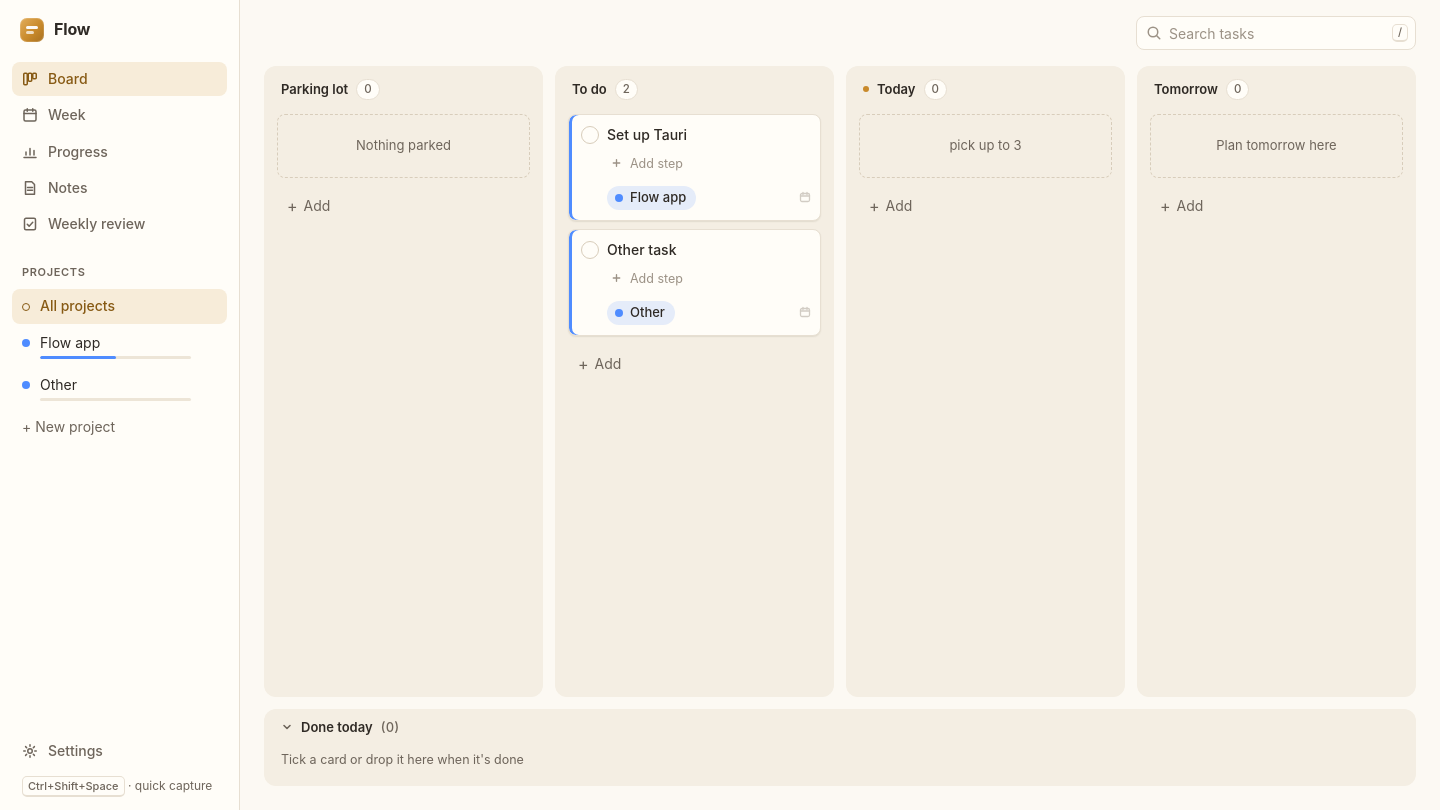
Test: Project header › blur without typing keeps an outside body change made while focused
Expected: the button "Set up Tauri" is shown, [607,125,810,144]
Click the button "Flow app" at coordinates (120, 346), box [12,326,227,366]
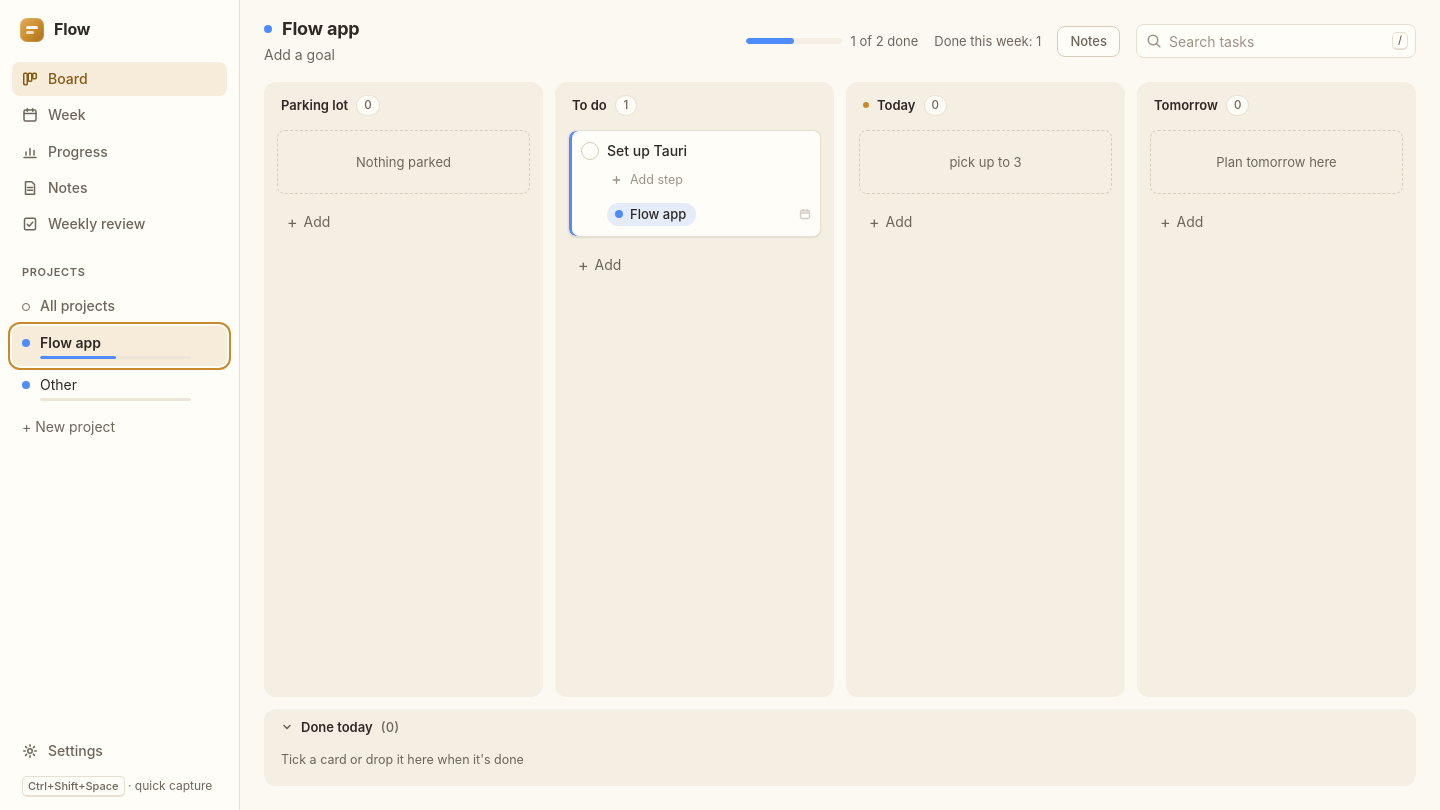
Click the button "Notes" in the row of "Done this week:" at coordinates (1089, 41), box [1057,26,1120,57]
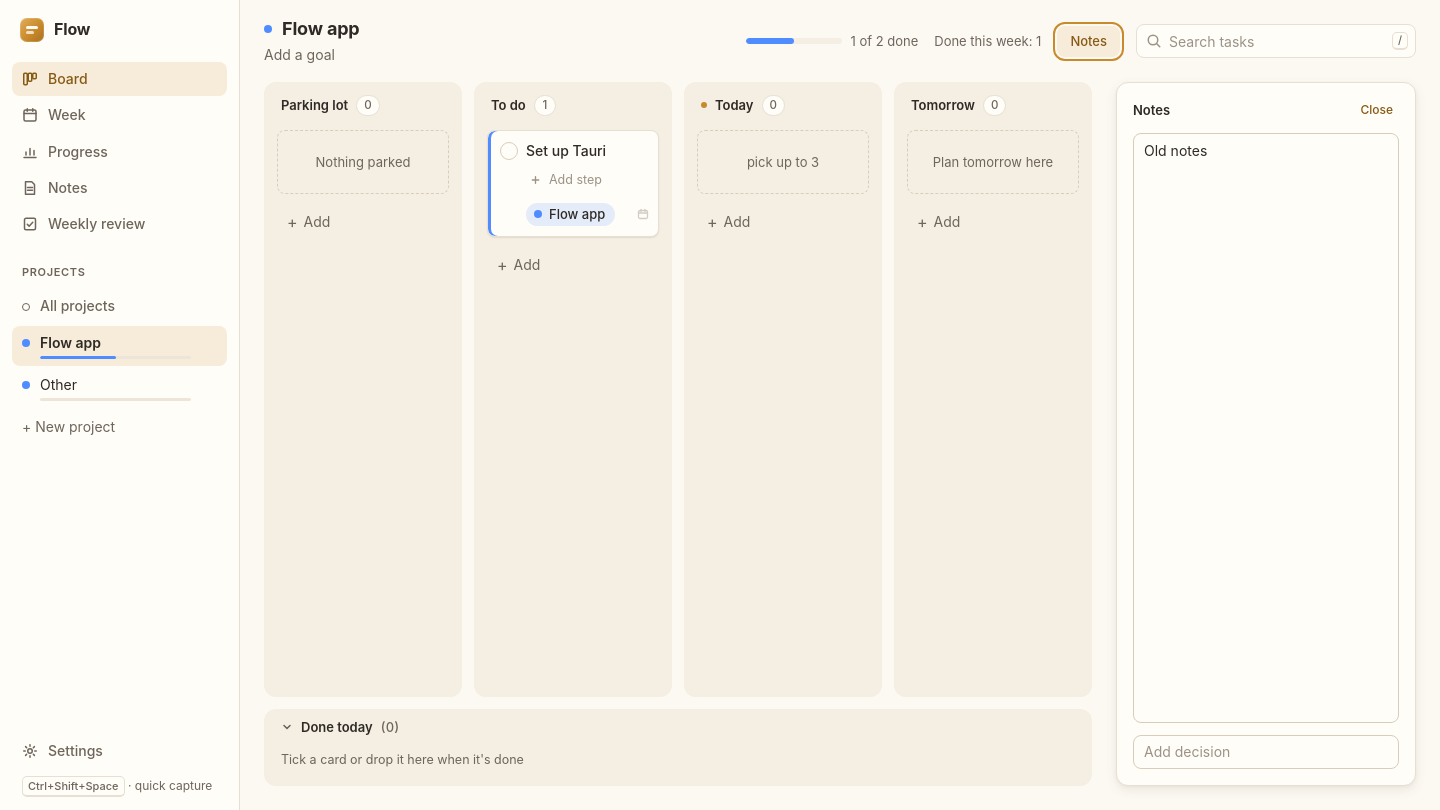
Click the text box named "Project notes" at coordinates (1266, 428), box [1133,133,1399,723]
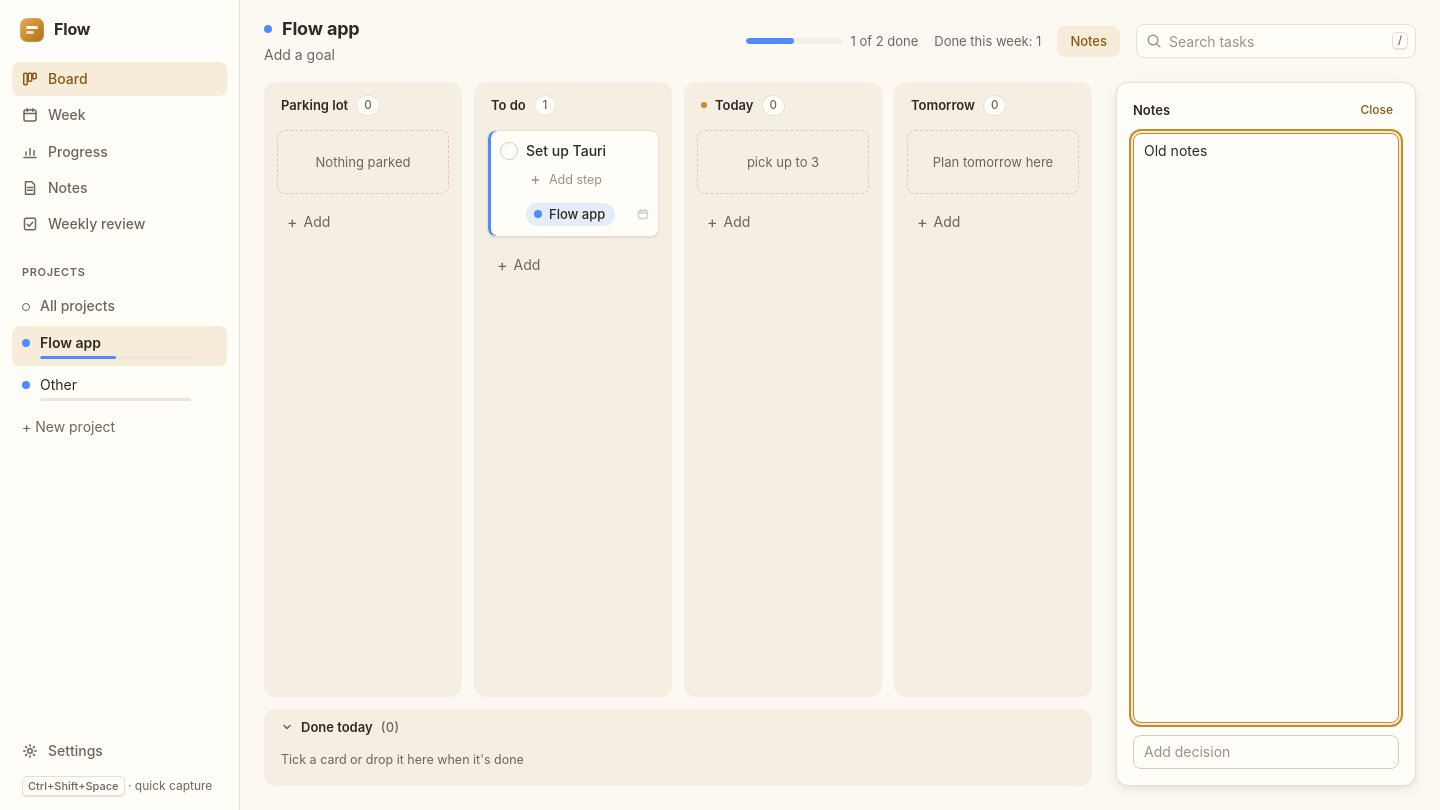
Press Tab
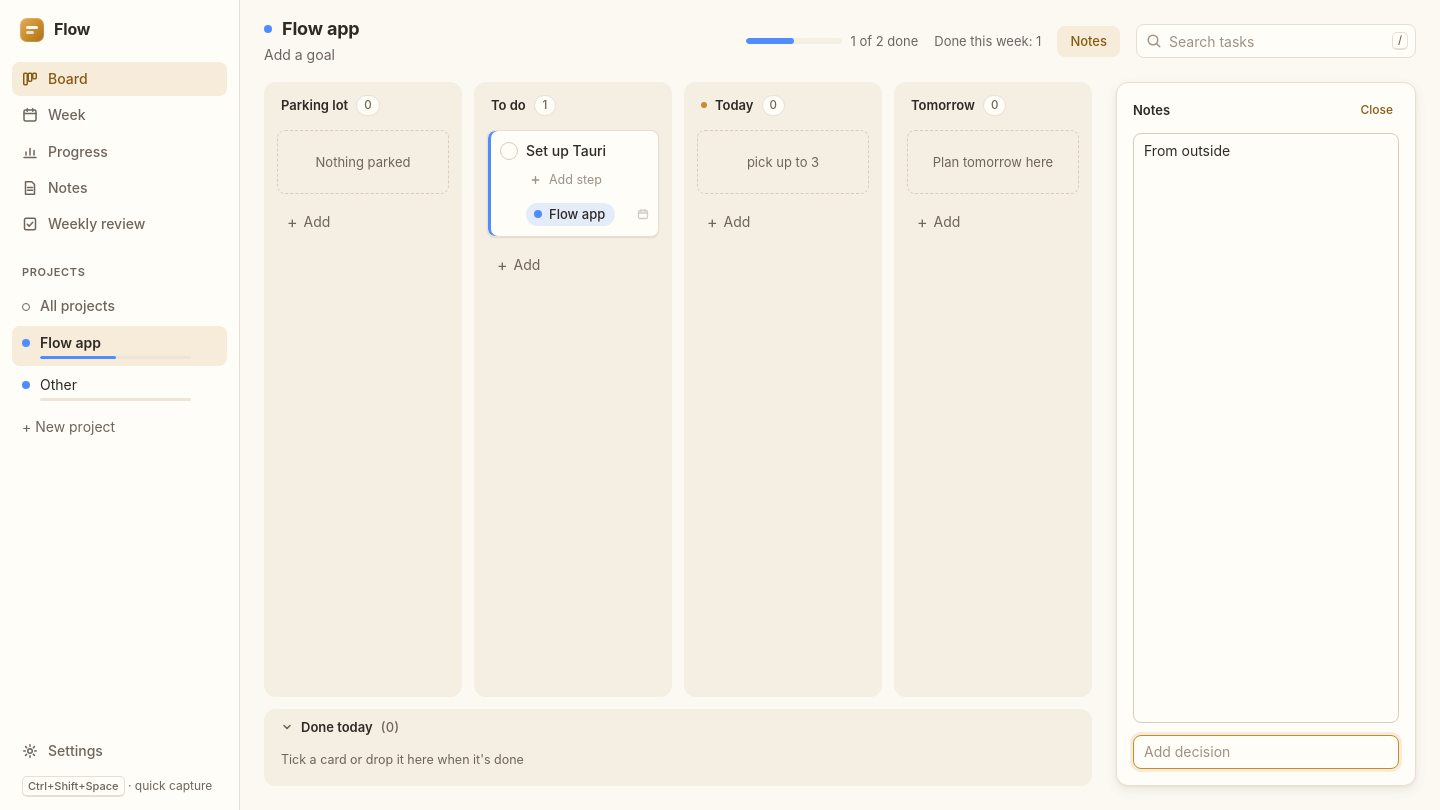
Result: the text box named "Project notes" holds "From outside" at [1133,133,1399,723]
